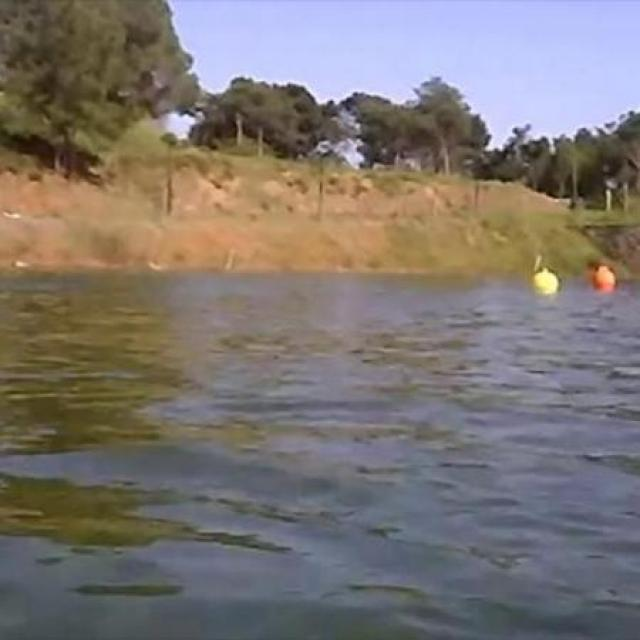buoy: (534, 268, 560, 292), (593, 266, 616, 289)
